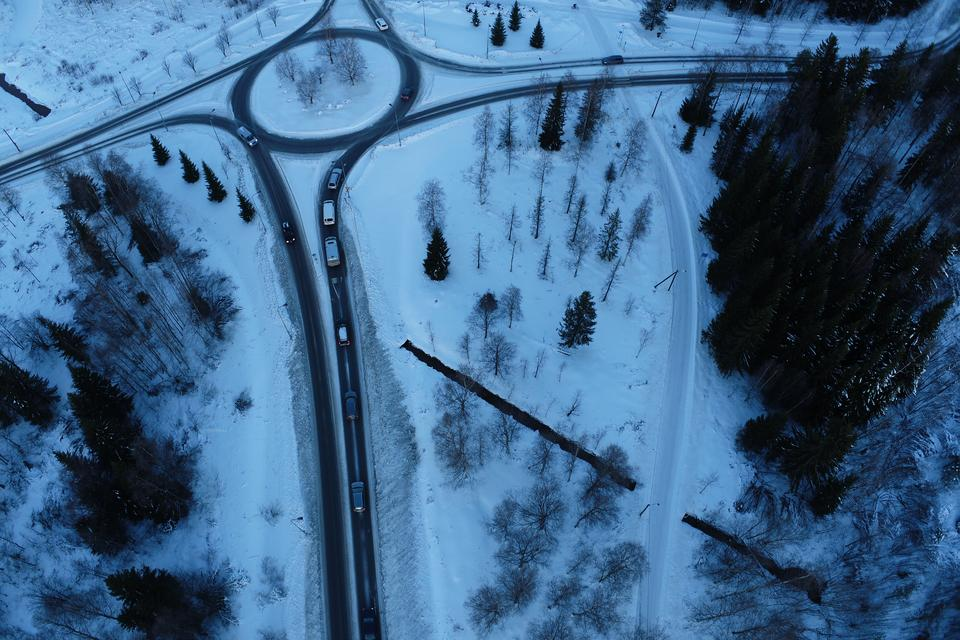intersection: (596, 36, 639, 106)
roundabout: (214, 15, 448, 172)
